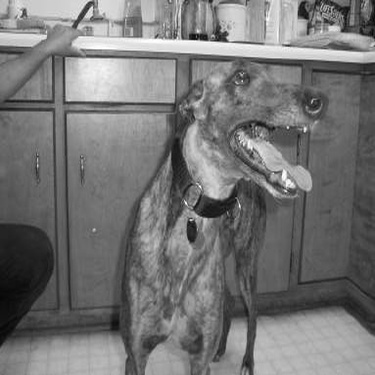dog: (109, 52, 334, 374)
